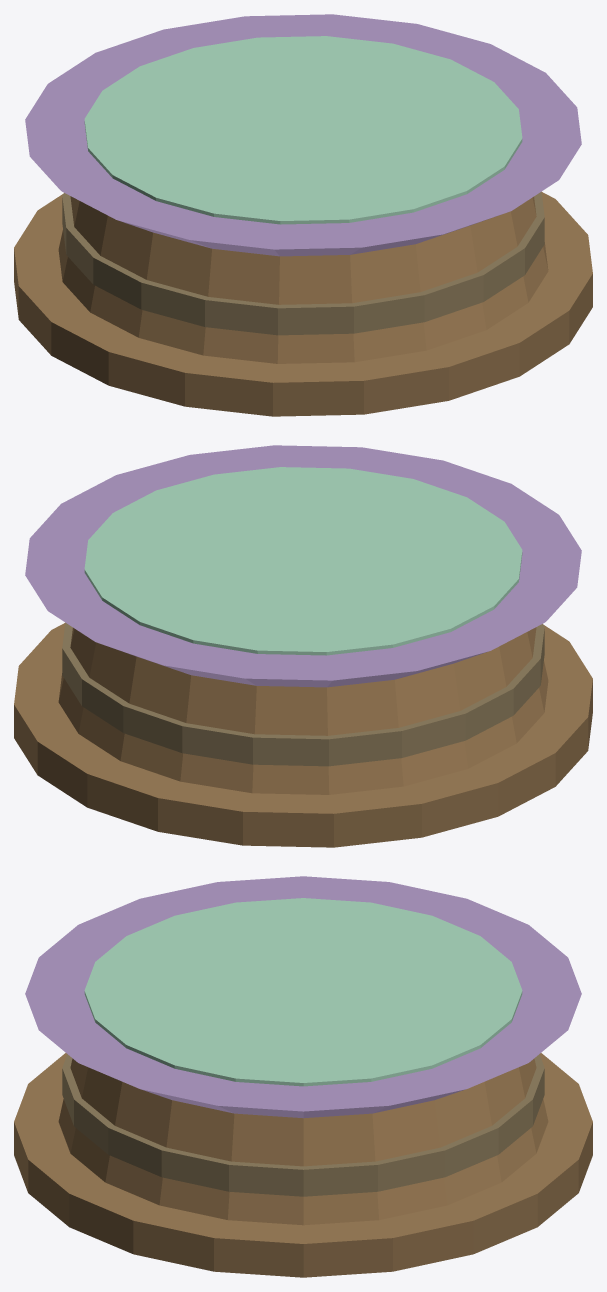
Rendered from goo_cork_stand.fbx.
The picture shows the model from 3 angles, top to bottom: view 1: azimuth 30°, elevation 25°; view 2: azimuth 150°, elevation 25°; view 3: azimuth 270°, elevation 25°; orthographic projection.
Parts seen in each view (by area): view 1: goo_cork_stand; view 2: goo_cork_stand; view 3: goo_cork_stand.
Part boxes in pixels (x1,y1,x2,y2): goo_cork_stand: (14,14,592,416); goo_cork_stand: (14,445,592,847); goo_cork_stand: (14,876,592,1277).
Bounding box in the file's own units: 7.8 × 2.45 × 7.8.
